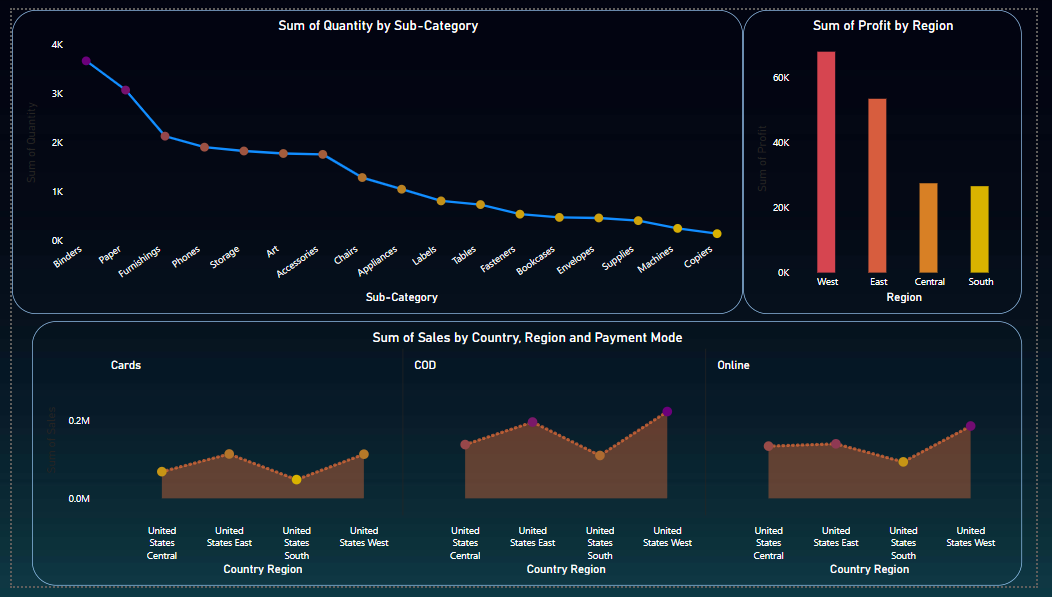

The page's visual inventory and layout, read from the dashboard file:
{"tool":"powerbi","page":{"name":"Page 2","canvas":[1280,720],"ordinal":1},"visuals":[{"type":"lineChart","fields":{"Category":["SuperStore_Sales_Dataset.Sub-Category"],"Y":["Sum(SuperStore_Sales_Dataset.Quantity)"]},"box":[0,0,913.9,379.9],"z":0},{"type":"stackedAreaChart","fields":{"Category":["SuperStore_Sales_Dataset.Country","SuperStore_Sales_Dataset.Region"],"Rows":["SuperStore_Sales_Dataset.Payment Mode"],"Y":["Sum(SuperStore_Sales_Dataset.Sales)"]},"box":[24.8,389.5,1237.3,330.3],"z":1},{"type":"ribbonChart","fields":{"Category":["SuperStore_Sales_Dataset.Region"],"Y":["Sum(SuperStore_Sales_Dataset.Profit)"]},"box":[913.9,0,348.2,379.9],"z":2}]}

Visuals, with their boxes in screenshot pixels (x1, y1, x2, y2), scaled from the page's 1280x720 canvas onto the 1052x597 screenshot:
lineChart - SuperStore_Sales_Dataset.Sub-Category x Sum(SuperStore_Sales_Dataset.Quantity): {"left": 0, "top": 0, "right": 751, "bottom": 315}
stackedAreaChart - SuperStore_Sales_Dataset.Country x SuperStore_Sales_Dataset.Region: {"left": 20, "top": 323, "right": 1037, "bottom": 596}
ribbonChart - SuperStore_Sales_Dataset.Region x Sum(SuperStore_Sales_Dataset.Profit): {"left": 751, "top": 0, "right": 1037, "bottom": 315}
